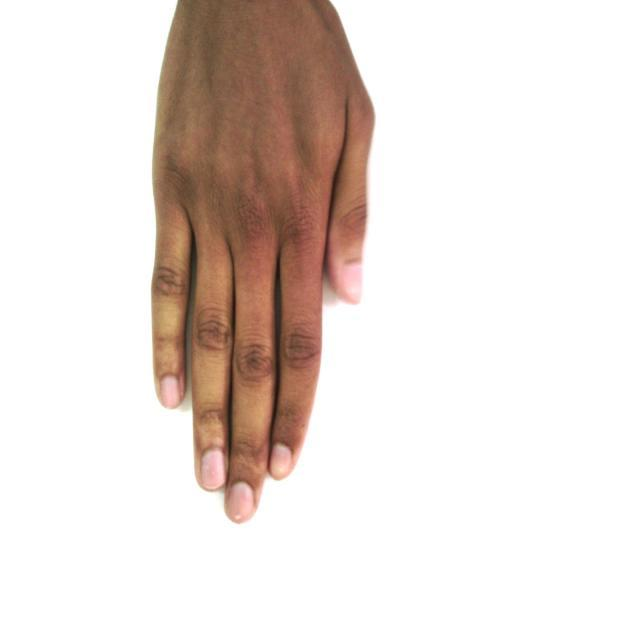Fingernail: (228, 482, 254, 520), (201, 450, 225, 489), (343, 262, 362, 301), (271, 445, 292, 478), (160, 376, 180, 408)
